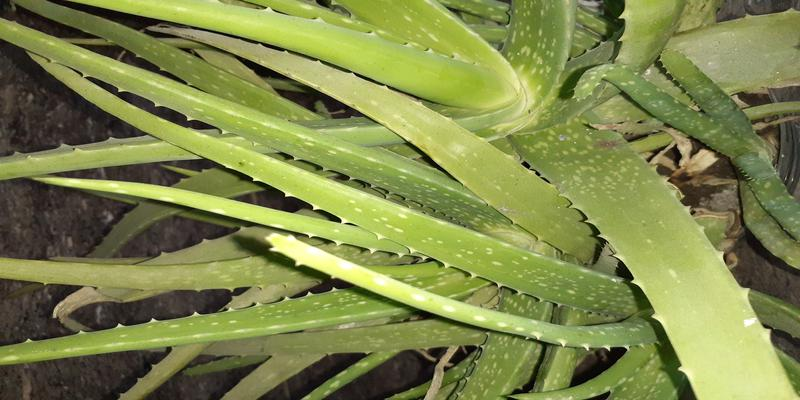Aloevera: (186, 24, 770, 378)
